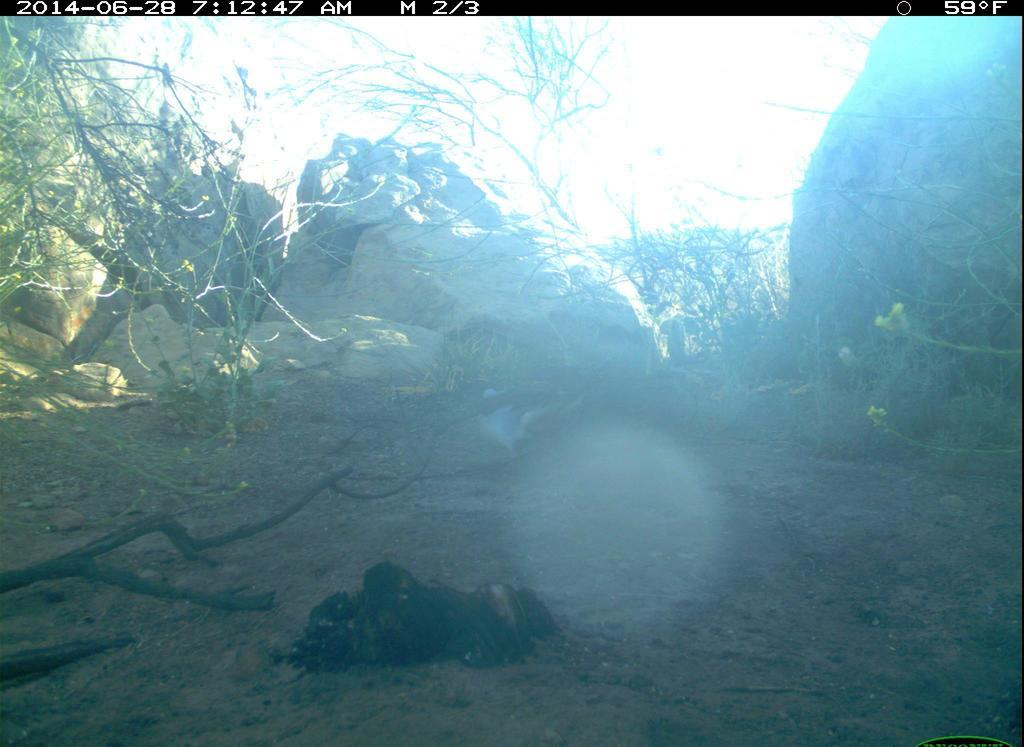bird: (471, 385, 558, 462)
